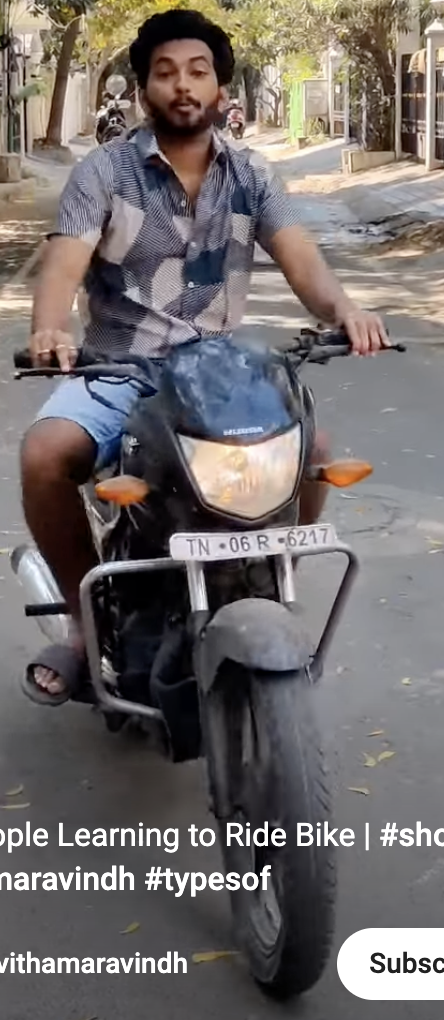motor: (17, 310, 407, 1010)
no helmet: (126, 11, 228, 138)
number: (166, 530, 337, 557)
